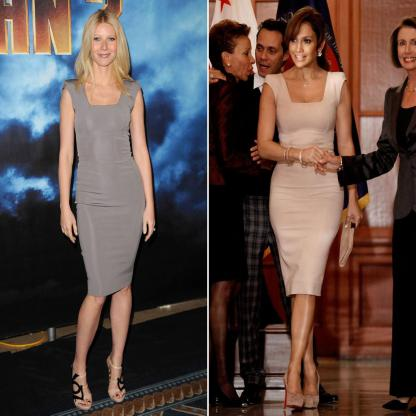face: (256, 35, 285, 78), (91, 27, 120, 67), (291, 28, 318, 69), (229, 41, 256, 82), (398, 32, 416, 71)
